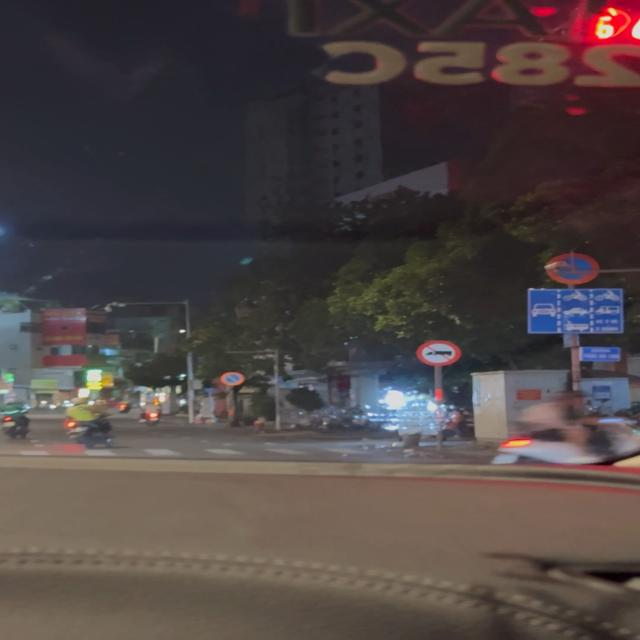Bien bao cam do xe: (219, 370, 248, 388)
Bien bao cam xe so-mi ro-mooc: (415, 338, 468, 368)
